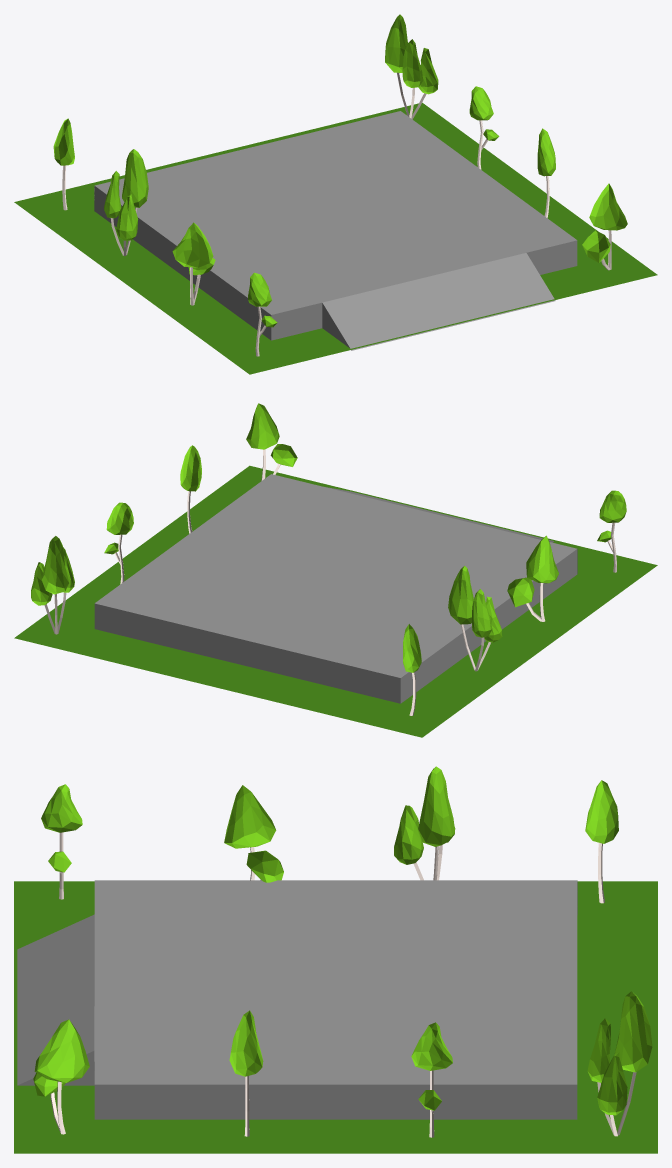
File: tower_platform.FBX
The picture shows the model from 3 angles, top to bottom: view 1: azimuth 30°, elevation 25°; view 2: azimuth 150°, elevation 25°; view 3: azimuth 270°, elevation 25°; orthographic projection. The views are drawn at different scales.
Visible parts, largest first — view 1: tree_cornifer_008; view 2: tree_cornifer_008; view 3: tree_cornifer_008.
Part boxes in pixels (box(x1,y1,x2,y2)): tree_cornifer_008: box(14, 14, 657, 374); tree_cornifer_008: box(14, 403, 657, 737); tree_cornifer_008: box(14, 766, 657, 1153).
Size of the model in its own units: 8000 by 1962 by 8000.
